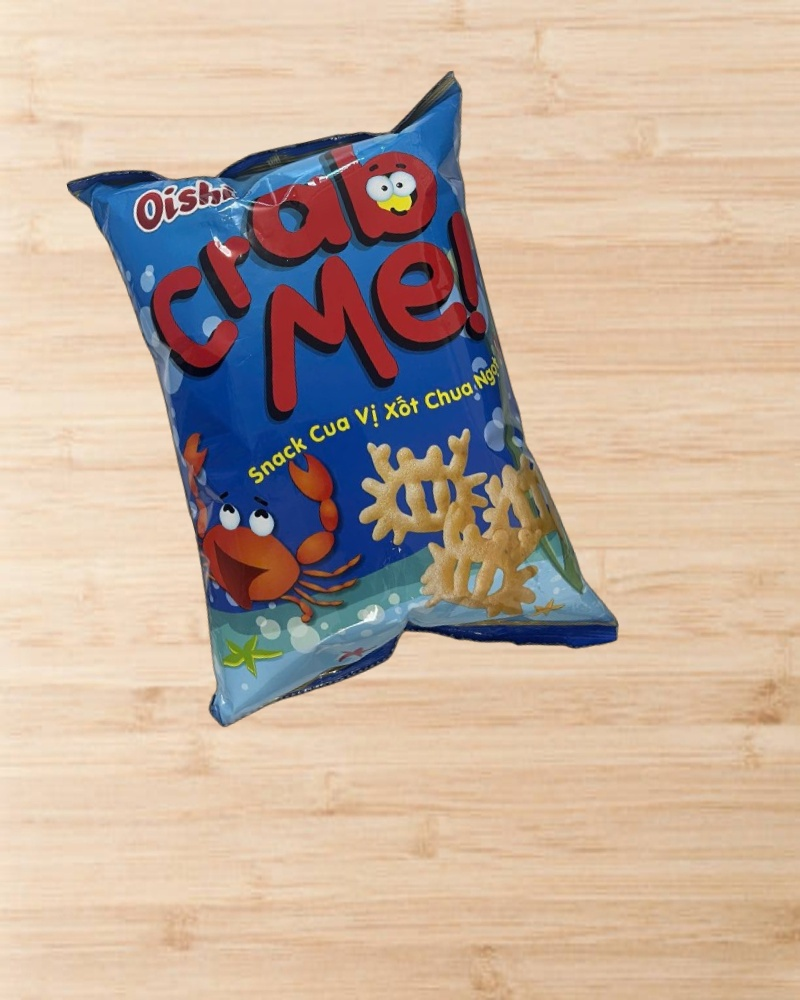Snack cua: (65, 67, 621, 741)
